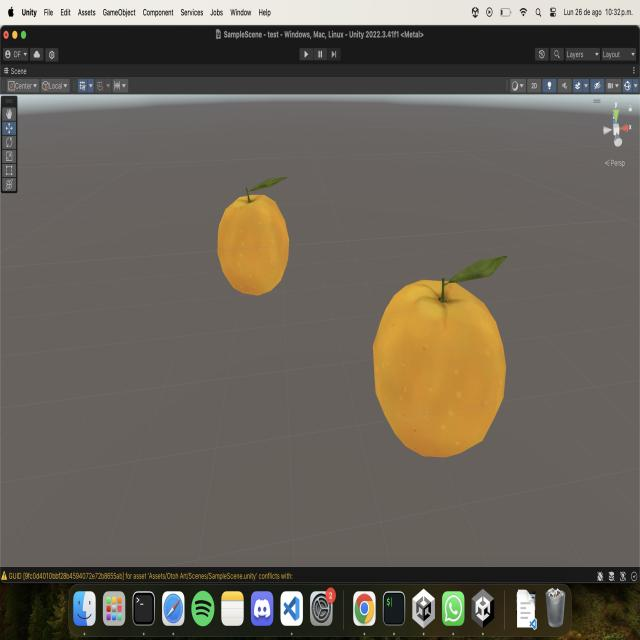oranges: (367, 242, 518, 470), (212, 168, 297, 306)
